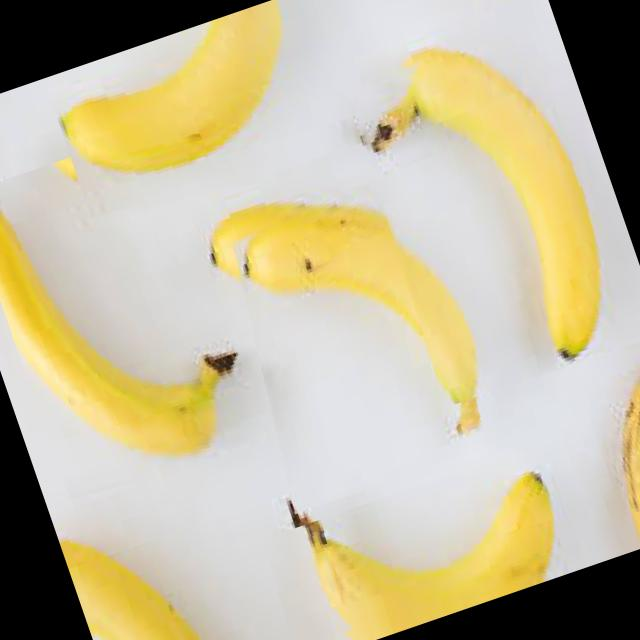Organic: (332, 17, 636, 406), (194, 156, 508, 514), (0, 128, 259, 511), (41, 0, 319, 230), (256, 444, 577, 640), (52, 484, 237, 640), (570, 332, 640, 550), (384, 0, 539, 25)
